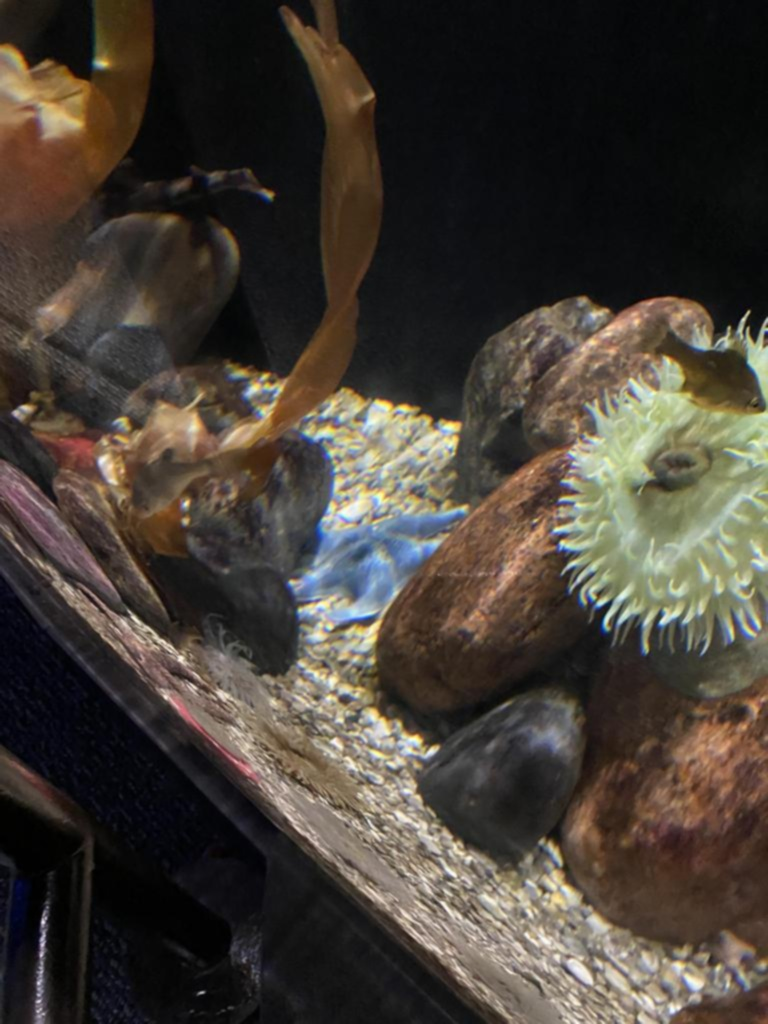fish: (615, 308, 767, 416), (130, 448, 220, 520)
starfish: (290, 502, 472, 624)
